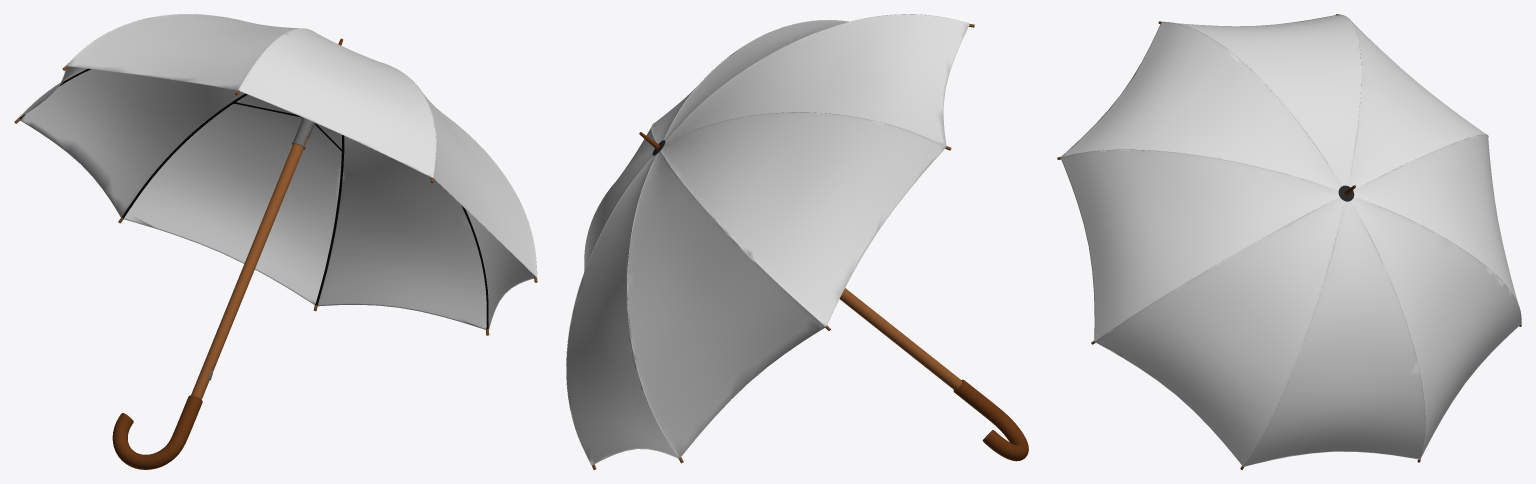
The model's file is umbrella.glb.
3 renders of one model, left to right at view 1: azimuth 30°, elevation 25°; view 2: azimuth 150°, elevation 25°; view 3: azimuth 270°, elevation 25°, orthographic. The views are drawn at different scales.
Parts seen in each view (by area): view 1: Sphere.004_Material.001_0, Cylinder_Material.005_0, Cylinder.001_Material.007_0, Sphere.002_Material.002_0; view 2: Sphere.004_Material.001_0, Cylinder.001_Material.007_0, Cylinder_Material.005_0; view 3: Sphere.004_Material.001_0.
Part boxes in pixels (<box>): Sphere.004_Material.001_0: <box>18,14,537,329</box>; Cylinder_Material.005_0: <box>191,137,307,399</box>; Cylinder.001_Material.007_0: <box>112,395,202,469</box>; Sphere.002_Material.002_0: <box>19,68,488,329</box>; Sphere.004_Material.001_0: <box>566,14,969,465</box>; Cylinder.001_Material.007_0: <box>953,379,1028,461</box>; Cylinder_Material.005_0: <box>839,288,962,390</box>; Sphere.004_Material.001_0: <box>1060,14,1521,466</box>.
Size of the model in its own units: 2.94 by 2.81 by 3.33.
